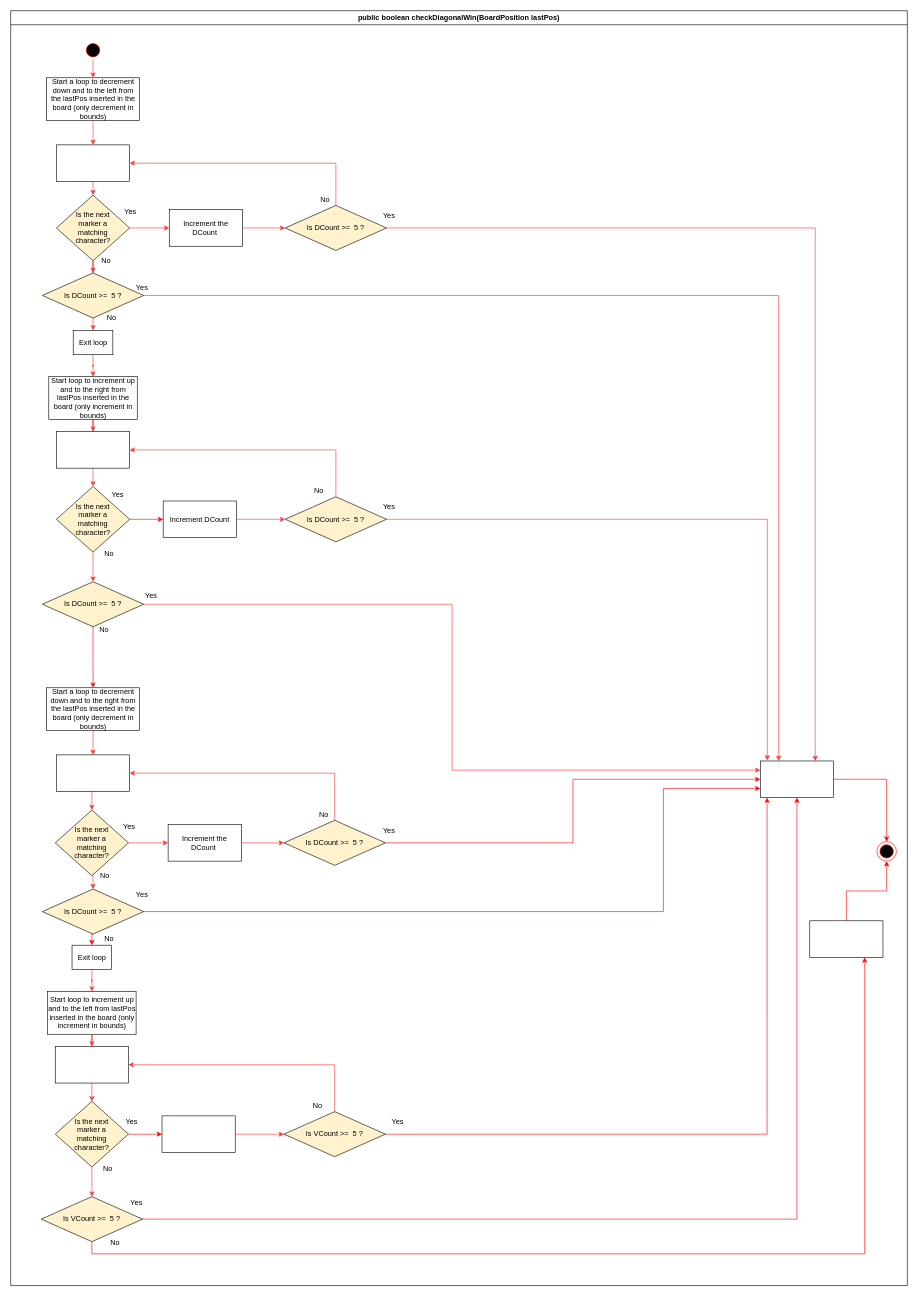
This 918x1296 diagram has some shape labels left out. Each missing label, with the centre of its shape:
"Decrement one space down and one space left" goes at (93,162).
"Decrement one space down and one space right" goes at (93,772).
"Increment one space up and one space left" goes at (91,1064).
"Increment one space up and one to the right" goes at (93,449).
"Increment VCount" goes at (198,1133).
"Return False" goes at (846,938).
"Return True" goes at (797,779).
